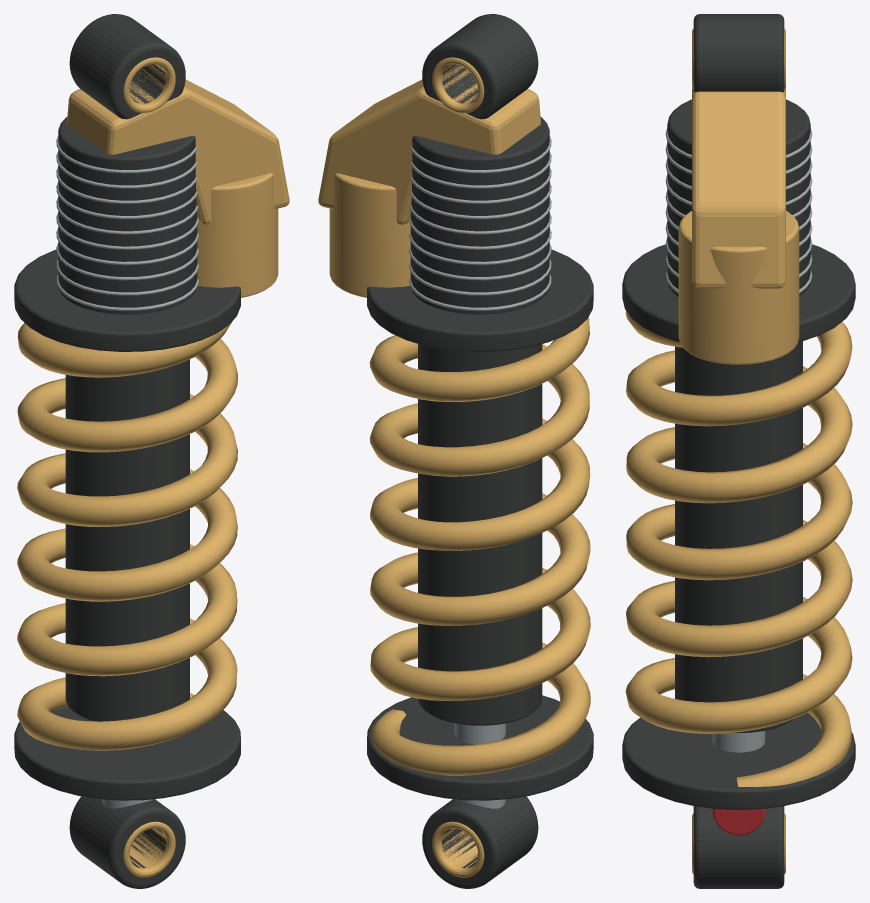
File: ohlins-ttx22m2-coil--e0f10784.glb
The picture shows the model from 3 angles, left to right: view 1: azimuth 30°, elevation 25°; view 2: azimuth 150°, elevation 25°; view 3: azimuth 270°, elevation 25°; orthographic projection. The views are drawn at different scales.
Parts seen in each view (by area): view 1: ohlins-ttx22m2-coil--e0f10784__link, ohlins-ttx22m2-coil--e0f10784__stanchions, ohlins-ttx22m2-coil--e0f10784__bolts; view 2: ohlins-ttx22m2-coil--e0f10784__link, ohlins-ttx22m2-coil--e0f10784__stanchions, ohlins-ttx22m2-coil--e0f10784__bolts; view 3: ohlins-ttx22m2-coil--e0f10784__stanchions, ohlins-ttx22m2-coil--e0f10784__link, ohlins-ttx22m2-coil--e0f10784__bolts, ohlins-ttx22m2-coil--e0f10784__rebound.
Boxes of the visible parts, x1,y1,x2,y2 form: ohlins-ttx22m2-coil--e0f10784__link: (14, 14, 240, 888); ohlins-ttx22m2-coil--e0f10784__stanchions: (17, 57, 289, 877); ohlins-ttx22m2-coil--e0f10784__bolts: (56, 136, 198, 808); ohlins-ttx22m2-coil--e0f10784__link: (367, 14, 593, 888); ohlins-ttx22m2-coil--e0f10784__stanchions: (318, 57, 590, 877); ohlins-ttx22m2-coil--e0f10784__bolts: (409, 136, 551, 808); ohlins-ttx22m2-coil--e0f10784__stanchions: (625, 29, 852, 873); ohlins-ttx22m2-coil--e0f10784__link: (622, 14, 855, 888); ohlins-ttx22m2-coil--e0f10784__bolts: (665, 128, 812, 752); ohlins-ttx22m2-coil--e0f10784__rebound: (712, 808, 765, 835).
Size of the model in its own units: 0.076 by 0.254 by 0.062.
